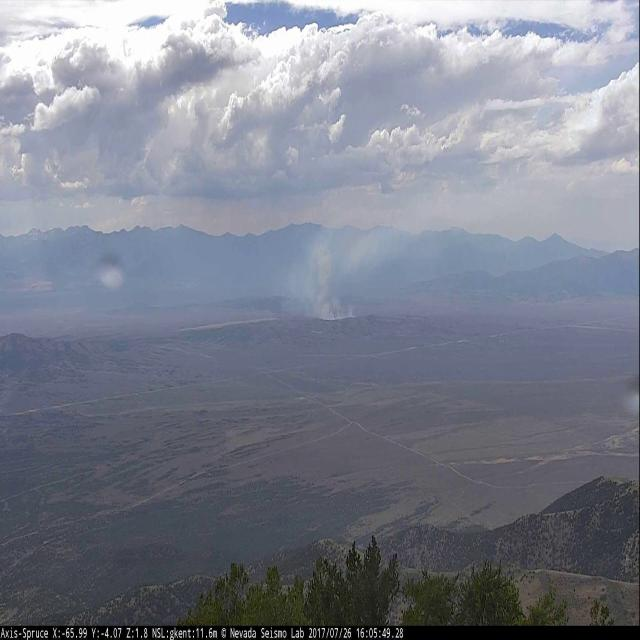smoke: (283, 194, 422, 329)
